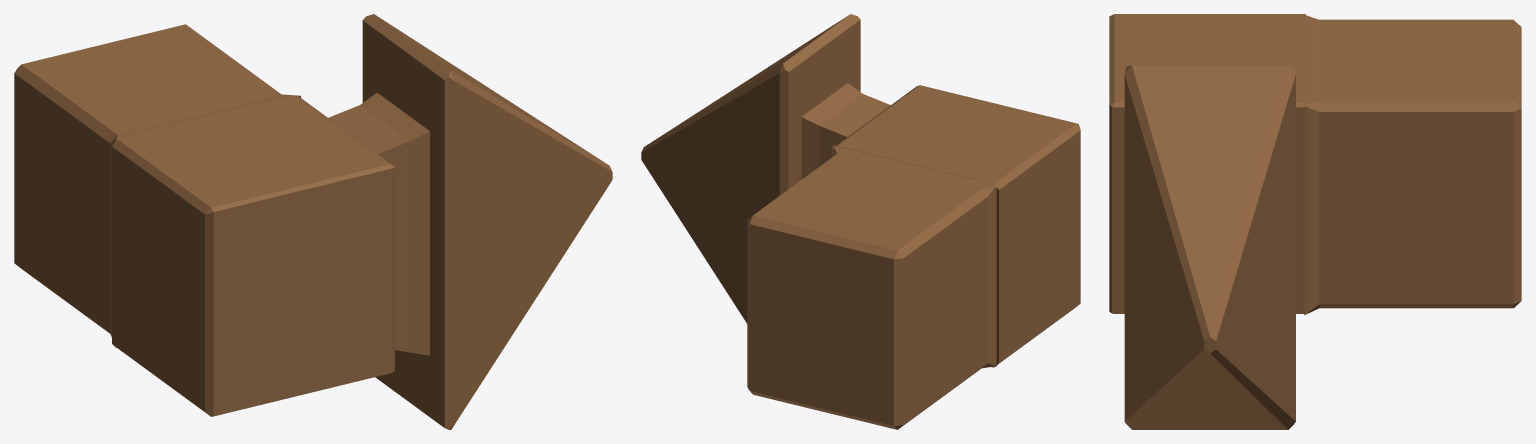
Rendered from signArrow.fbx.
The picture shows the model from 3 angles, left to right: view 1: azimuth 30°, elevation 25°; view 2: azimuth 150°, elevation 25°; view 3: azimuth 270°, elevation 25°; orthographic projection. The views are drawn at different scales.
Parts seen in each view (by area): view 1: SignArrow; view 2: SignArrow; view 3: SignArrow.
Part boxes in pixels (box(x1,y1,x2,y2)): SignArrow: box(14, 14, 612, 429); SignArrow: box(641, 14, 1080, 429); SignArrow: box(1109, 14, 1521, 429).
Bounding box in the file's own units: 607 × 462 × 474.
1 material, 1 textured.
